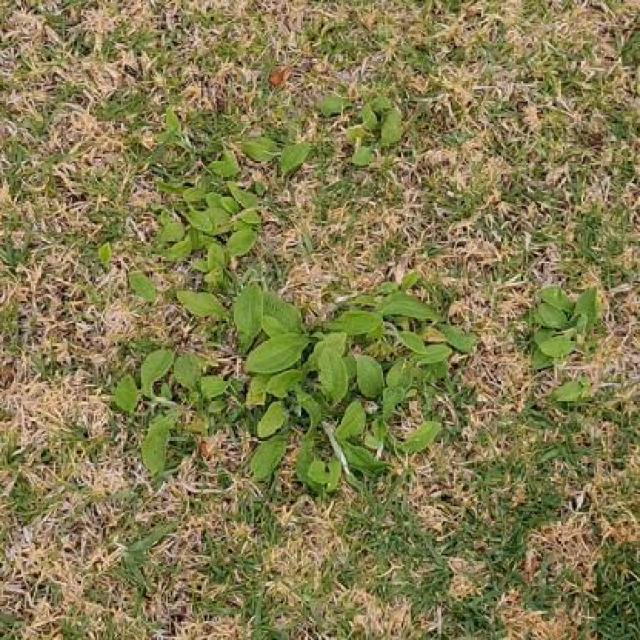weed: (114, 149, 478, 498), (531, 288, 598, 370)
